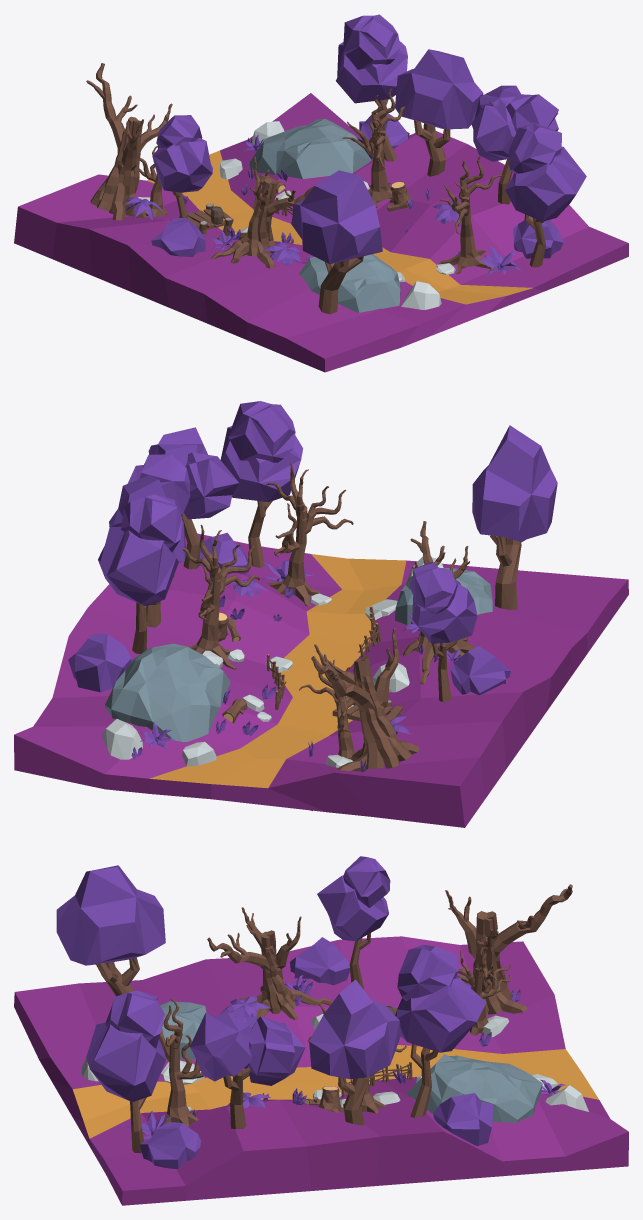
File: Forest_Spooky.fbx
The picture shows the model from 3 angles, top to bottom: view 1: azimuth 30°, elevation 25°; view 2: azimuth 150°, elevation 25°; view 3: azimuth 270°, elevation 25°; orthographic projection. The views are drawn at different scales.
Visible parts, largest first — view 1: group2009401224, group403363102, group1045676722, group313951583, group2035836735, group1922369548, group1573540807, group506122935, group561706230, group1715968370, group133283747, group1101735918 (+10 smaller); view 2: group2009401224, group403363102, group1922369548, group2035836735, group313951583, group1573540807, group506122935, group133283747, group1101735918, group1158573957, group1782538837, group1045676722 (+11 smaller); view 3: group2009401224, group403363102, group2035836735, group1045676722, group1573540807, group313951583, group1922369548, group506122935, group1715968370, group133283747, group1158573957, group438538056 (+10 smaller).
Part boxes in pixels (x1,y1,x2,y2): group2009401224: (14, 93, 628, 372); group403363102: (291, 170, 382, 314); group1045676722: (395, 49, 483, 176); group313951583: (505, 122, 586, 267); group2035836735: (336, 14, 407, 161); group1922369548: (249, 118, 371, 178); group1573540807: (471, 85, 558, 204); group506122935: (152, 115, 212, 218); group561706230: (299, 254, 400, 312); group1715968370: (211, 156, 313, 268); group133283747: (439, 156, 502, 273); group1101735918: (342, 88, 404, 207); group2009401224: (14, 533, 628, 827); group403363102: (472, 425, 557, 609); group1922369548: (105, 643, 230, 741); group2035836735: (98, 494, 182, 653); group313951583: (220, 401, 302, 567); group1573540807: (128, 427, 238, 569); group506122935: (409, 561, 477, 702); group133283747: (265, 462, 353, 606); group1101735918: (182, 524, 259, 669); group1158573957: (68, 634, 131, 692); group1782538837: (450, 646, 510, 695); group1045676722: (109, 475, 186, 627); group2009401224: (14, 936, 628, 1205); group403363102: (56, 865, 165, 996); group2035836735: (395, 944, 486, 1117); group1045676722: (309, 979, 401, 1125); group1573540807: (190, 1006, 305, 1129); group313951583: (86, 990, 165, 1153); group1922369548: (406, 1054, 542, 1122); group506122935: (317, 856, 390, 988); group1715968370: (207, 907, 332, 1019); group133283747: (159, 999, 203, 1126); group1158573957: (433, 1093, 493, 1145); group438538056: (139, 1122, 201, 1168).
Bounding box in the file's own units: 140 × 58.1 × 152.
